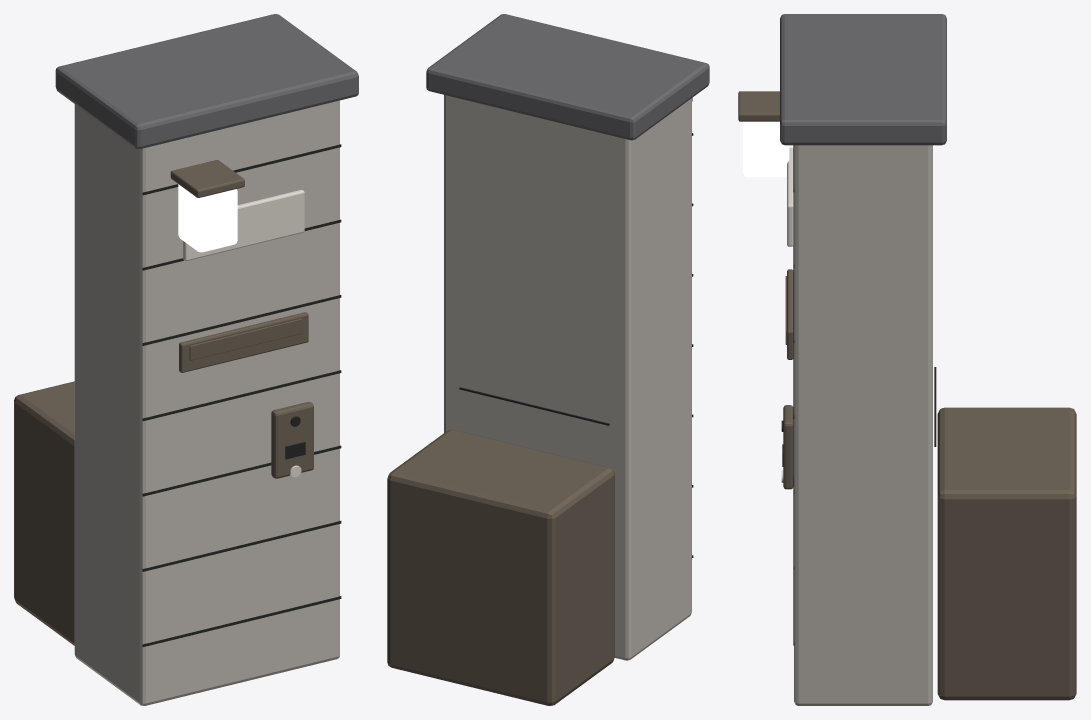
File: city-residential-gate-pillar.glb
3 views of the same model, side by side, from view 1: azimuth 30°, elevation 25°; view 2: azimuth 150°, elevation 25°; view 3: azimuth 270°, elevation 25° (orthographic). The views are drawn at different scales.
Visible parts, largest first — view 1: Assembly | Warm grey stone tile, Assembly | Dark slate cap, Assembly | Dark bronze fittings, Assembly | Slot and lens shadow, Assembly | Blank house name plate, Assembly | Opal porch lamp, lit; view 2: Assembly | Warm grey stone tile, Assembly | Dark bronze fittings, Assembly | Dark slate cap; view 3: Assembly | Warm grey stone tile, Assembly | Dark bronze fittings, Assembly | Dark slate cap, Assembly | Opal porch lamp, lit, Assembly | Slot and lens shadow, Assembly | Blank house name plate.
Part boxes in pixels (x1,y1,x2,y2): Assembly | Warm grey stone tile: [74, 100, 339, 705]; Assembly | Dark slate cap: [55, 14, 358, 149]; Assembly | Dark bronze fittings: [14, 160, 313, 645]; Assembly | Slot and lens shadow: [142, 144, 341, 646]; Assembly | Blank house name plate: [183, 189, 304, 477]; Assembly | Opal porch lamp, lit: [178, 184, 237, 252]; Assembly | Warm grey stone tile: [444, 95, 691, 660]; Assembly | Dark bronze fittings: [387, 98, 692, 705]; Assembly | Dark slate cap: [426, 14, 709, 140]; Assembly | Warm grey stone tile: [794, 145, 932, 705]; Assembly | Dark bronze fittings: [738, 91, 1076, 700]; Assembly | Dark slate cap: [780, 14, 946, 145]; Assembly | Opal porch lamp, lit: [743, 121, 789, 177]; Assembly | Slot and lens shadow: [781, 145, 936, 645]; Assembly | Blank house name plate: [781, 147, 793, 482].
Size of the model in its own units: 0.56 by 1.41 by 0.73.
